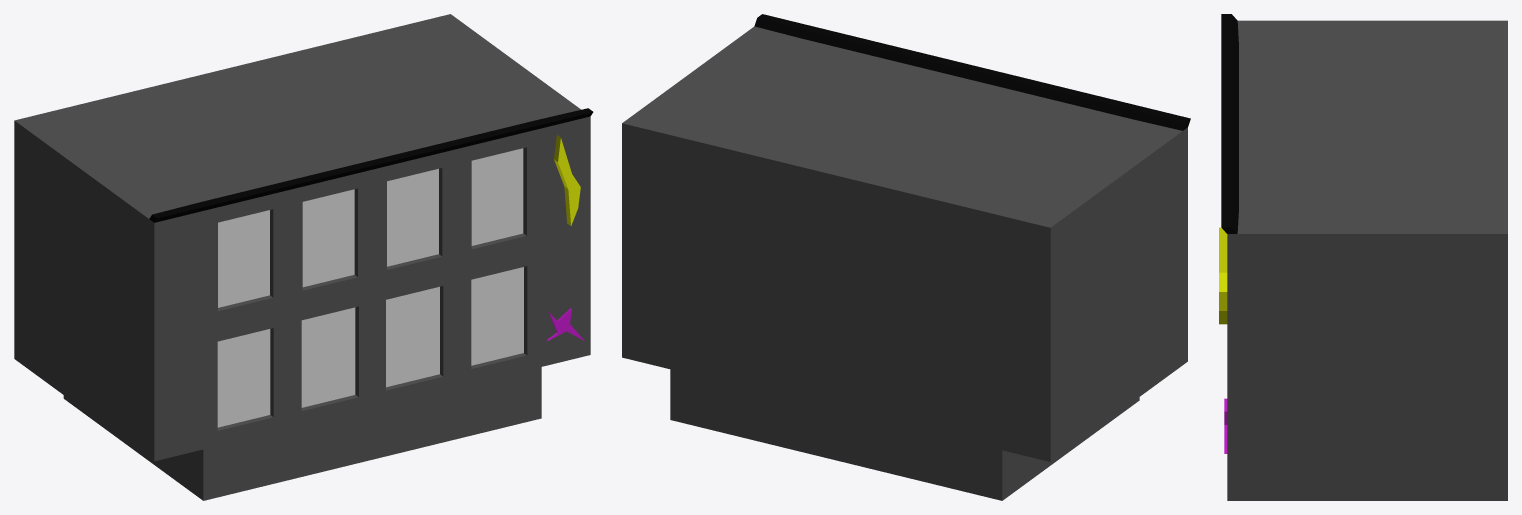
File: Building_Main_Mirrored.glb
3 renders of one model, left to right at view 1: azimuth 30°, elevation 25°; view 2: azimuth 150°, elevation 25°; view 3: azimuth 270°, elevation 25°, orthographic. The views are drawn at different scales.
Parts seen in each view (by area): view 1: Cube; view 2: Cube; view 3: Cube.
Part boxes in pixels (box(x1,y1,x2,y2)): Cube: box(14, 14, 593, 500); Cube: box(622, 14, 1190, 500); Cube: box(1219, 14, 1507, 500).
Bounding box in the file's own units: 51.28 × 33.33 × 29.31.
1 material, 1 textured.
